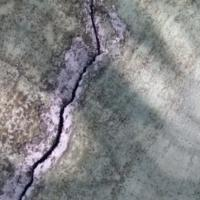crack: (9, 0, 136, 199)
